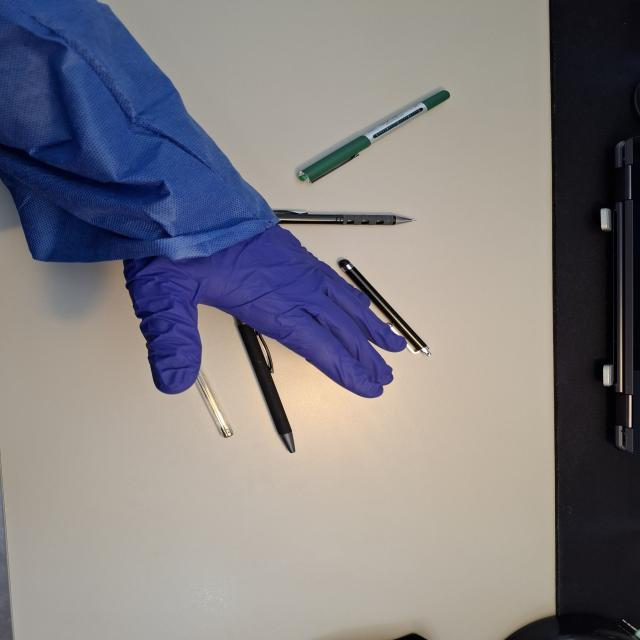glove_on: (119, 214, 411, 401)
